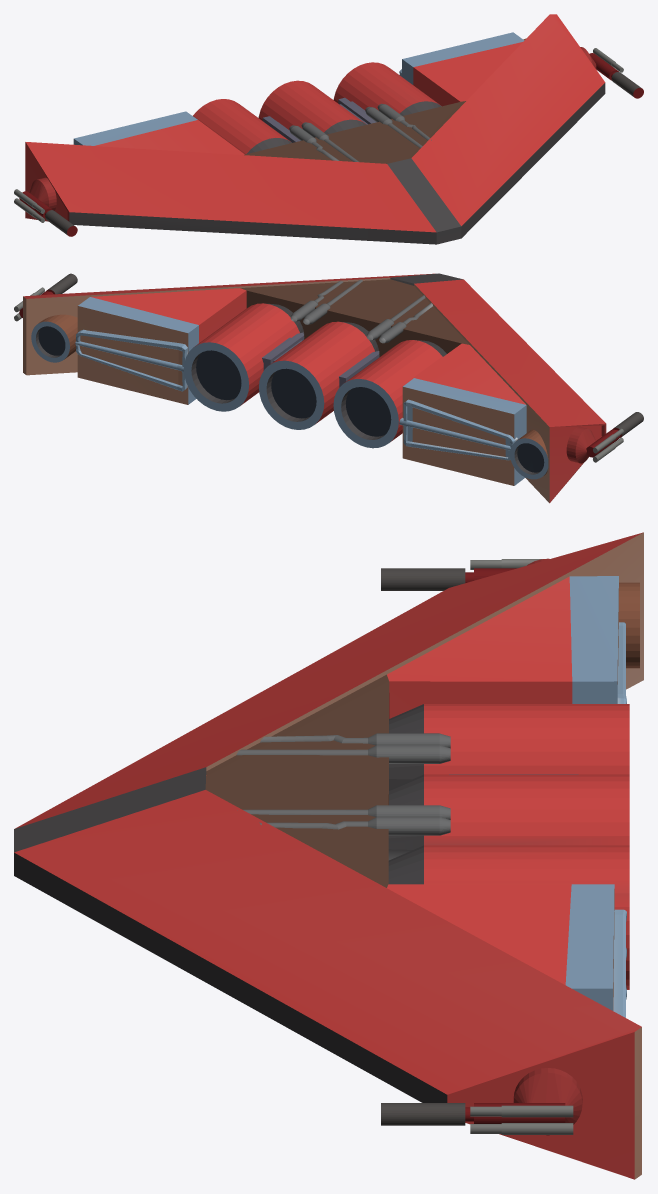
The model's file is NaveEspacial.fbx.
3 renders of one model, top to bottom at view 1: azimuth 30°, elevation 25°; view 2: azimuth 150°, elevation 25°; view 3: azimuth 270°, elevation 25°, orthographic. The views are drawn at different scales.
Parts seen in each view (by area): view 1: NaveBloodHawk; view 2: NaveBloodHawk; view 3: NaveBloodHawk.
Boxes of the visible parts, x1,y1,x2,y2 form: NaveBloodHawk: (14, 14, 643, 244); NaveBloodHawk: (14, 273, 643, 503); NaveBloodHawk: (14, 532, 643, 1179).
Bounding box in the file's own units: 10384 × 1321 × 5016.
